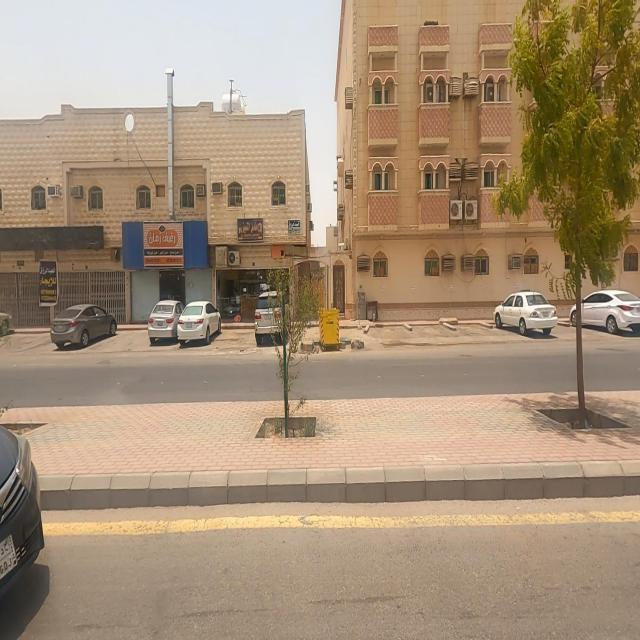debris: (0, 170, 133, 290)
